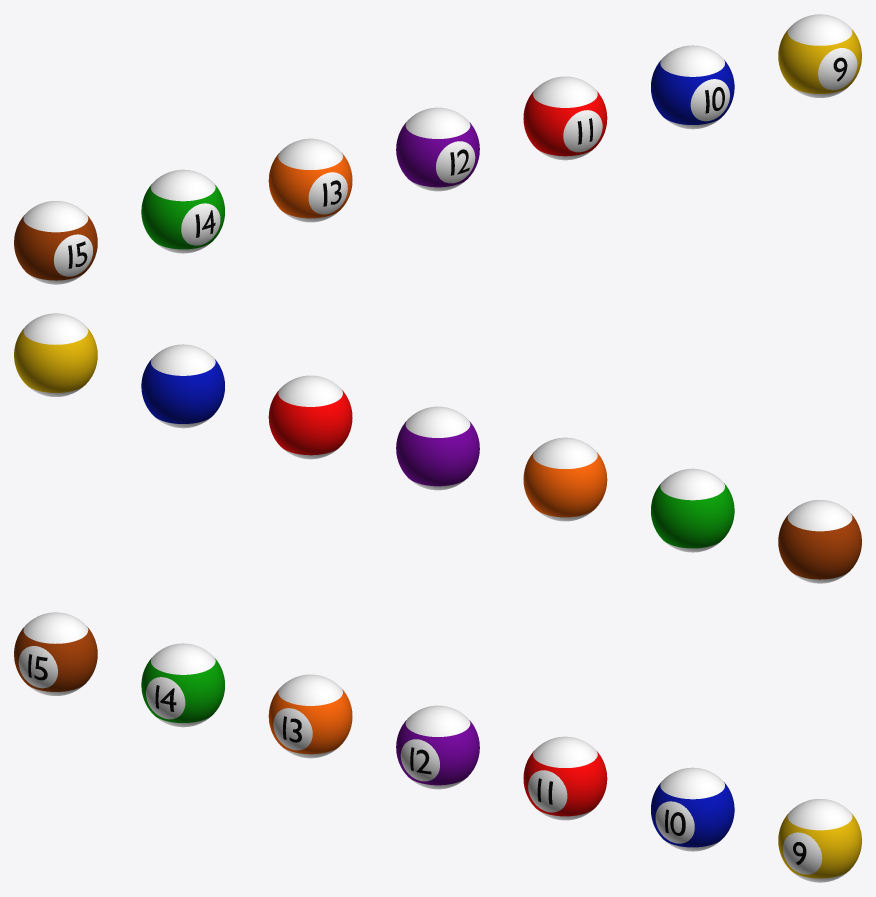
Rendered from StripedBall.fbx.
The picture shows the model from 3 angles, top to bottom: view 1: azimuth 30°, elevation 25°; view 2: azimuth 150°, elevation 25°; view 3: azimuth 330°, elevation 25°; orthographic projection.
Parts seen in each view (by area): view 1: Ball9, Ball11, Ball13, Ball15, Ball10, Ball12, Ball14; view 2: Ball9, Ball11, Ball13, Ball15, Ball10, Ball12, Ball14; view 3: Ball9, Ball11, Ball13, Ball15, Ball12, Ball14, Ball10.
Part boxes in pixels (x1,y1,x2,y2): Ball9: (778, 14, 861, 97); Ball11: (523, 76, 607, 160); Ball13: (268, 138, 352, 222); Ball15: (14, 201, 97, 284); Ball10: (651, 45, 734, 129); Ball12: (396, 107, 479, 191); Ball14: (141, 169, 224, 253); Ball9: (14, 313, 97, 396); Ball11: (268, 375, 352, 459); Ball13: (523, 437, 607, 521); Ball15: (778, 500, 861, 583); Ball10: (141, 344, 224, 428); Ball12: (396, 406, 479, 490); Ball14: (651, 468, 734, 552); Ball9: (778, 799, 861, 882); Ball11: (523, 736, 607, 820); Ball13: (268, 674, 352, 758); Ball15: (14, 612, 97, 695); Ball12: (396, 705, 479, 789); Ball14: (141, 643, 224, 727); Ball10: (651, 767, 734, 851).
Size of the model in its own units: 65.7 by 5.7 by 5.7.
